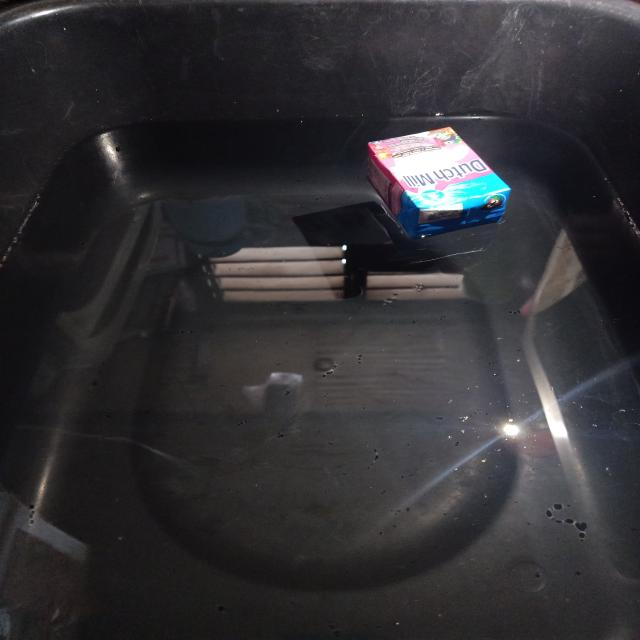Cardboard Box: (367, 127, 511, 239)
